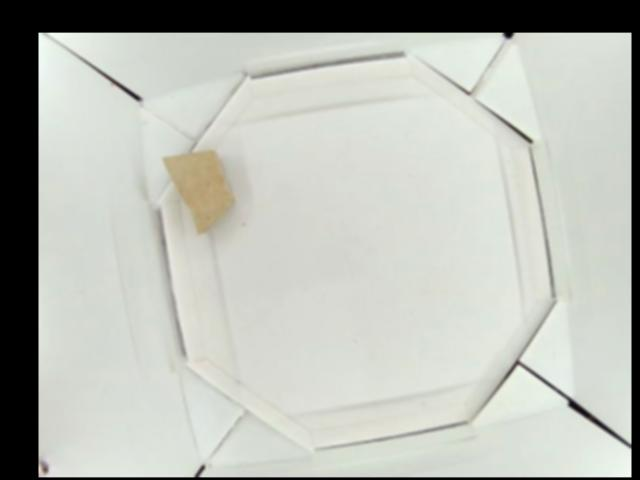China: (162, 150, 236, 236)
